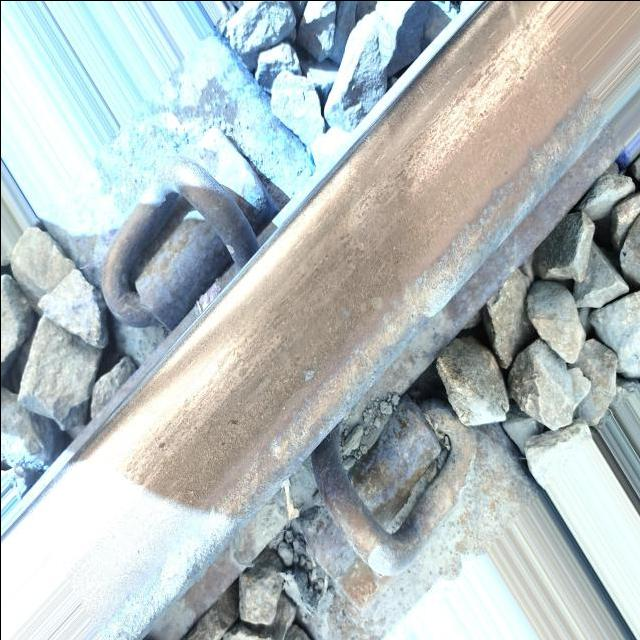squats_high: (224, 411, 240, 432), (302, 368, 314, 384), (154, 438, 166, 450)
